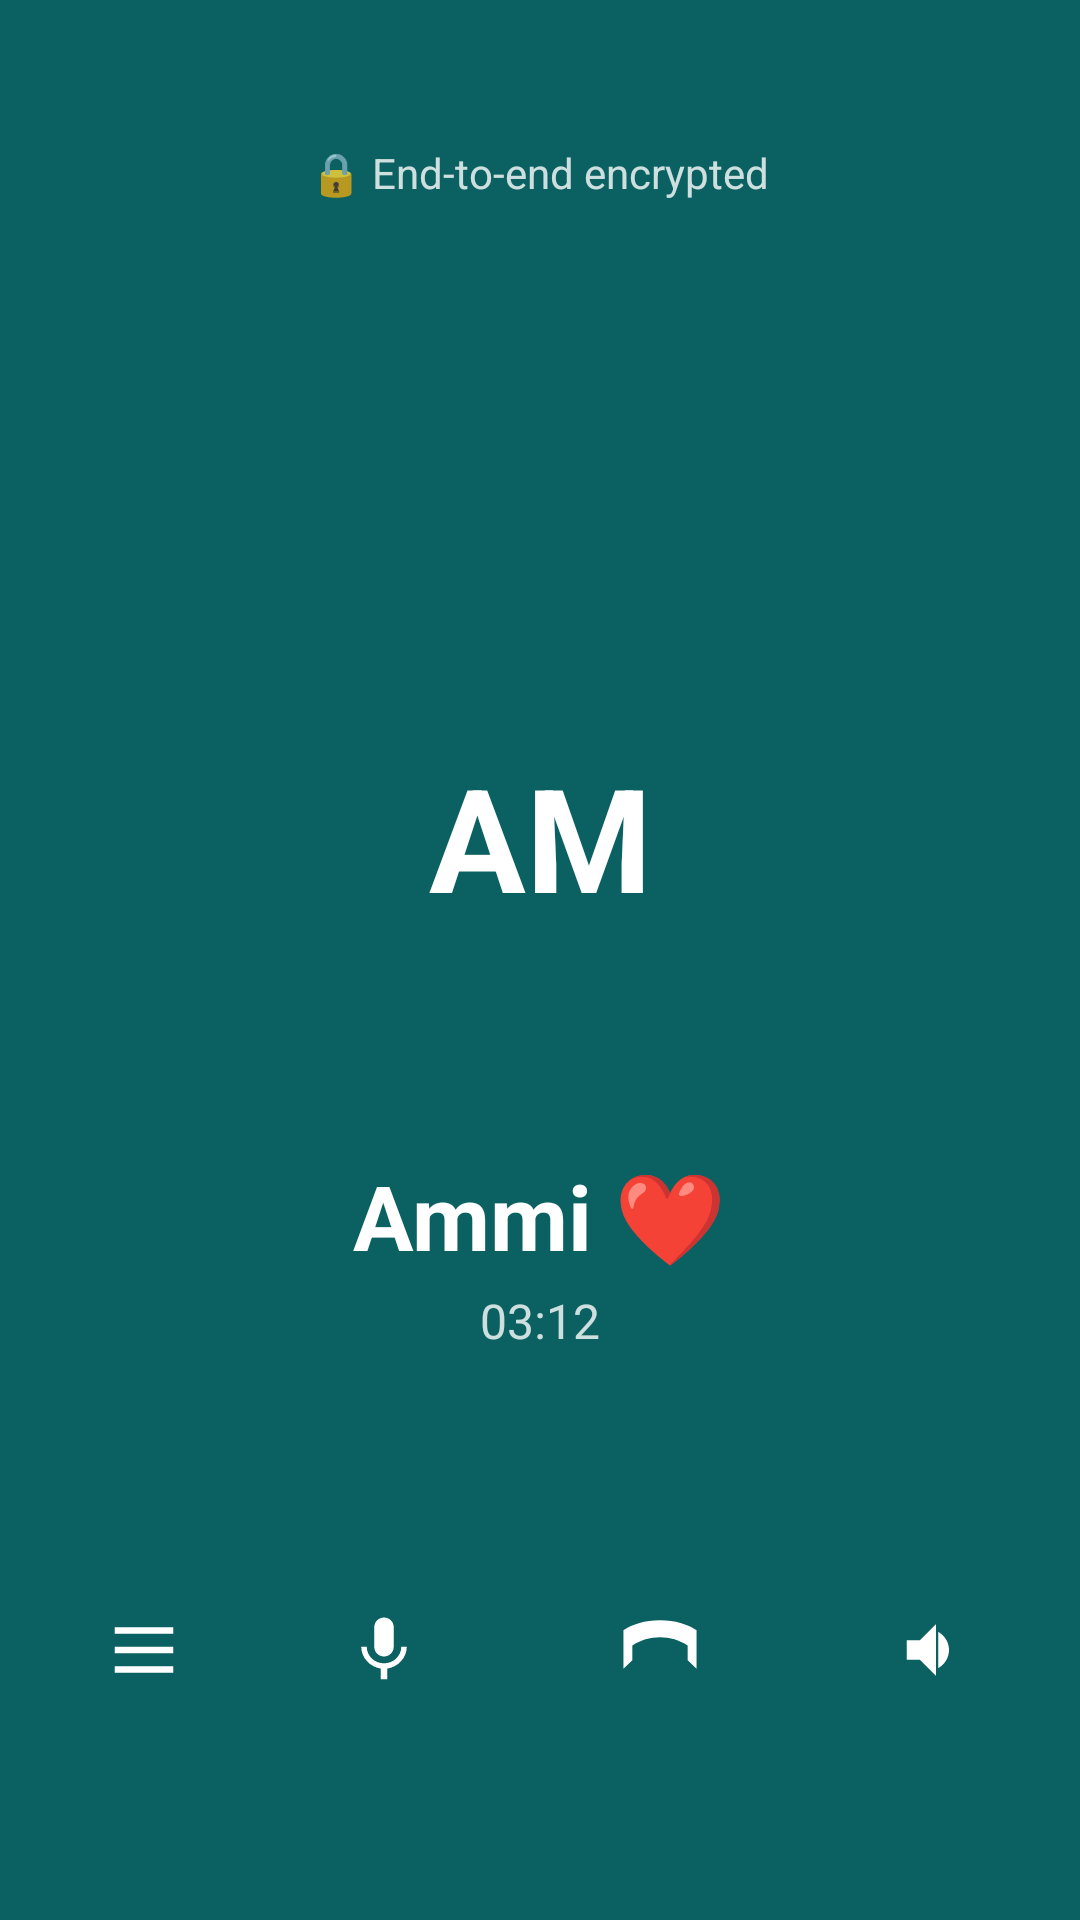

Named icons in this screenshot (1080×1920) and their centers, [x,y]:
call end: [660,1644]
menu: [144,1650]
mic: [384,1648]
speaker: [927,1650]
